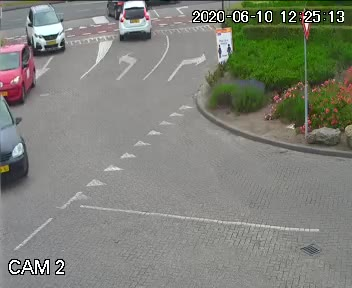car: (0, 92, 37, 190), (19, 0, 78, 58), (1, 41, 38, 92), (113, 4, 158, 39)
